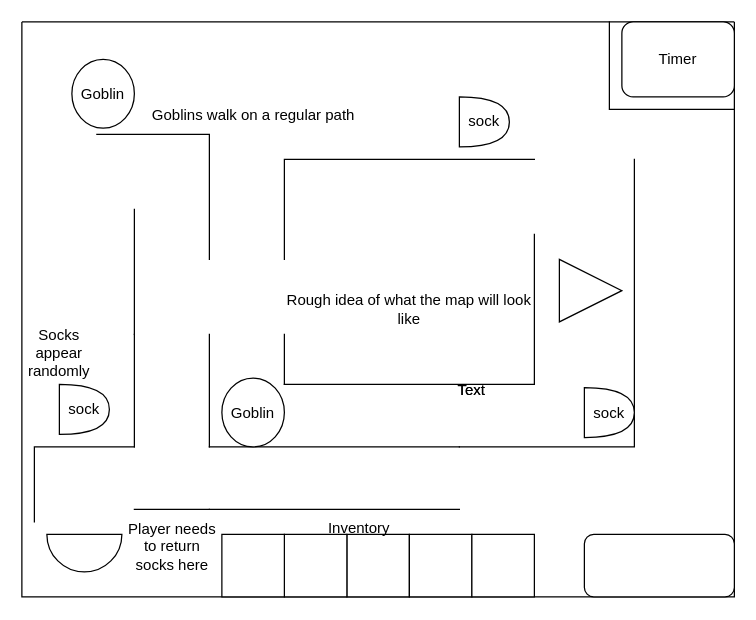
Image size: 756x620. Some labels were removed from this diagram. Here are the shapes that lost their labels. From the top down, the box of each, then its label:
(558, 258, 622, 322): Player
(46, 533, 122, 572): Laundry basket
(583, 533, 734, 597): Score:
